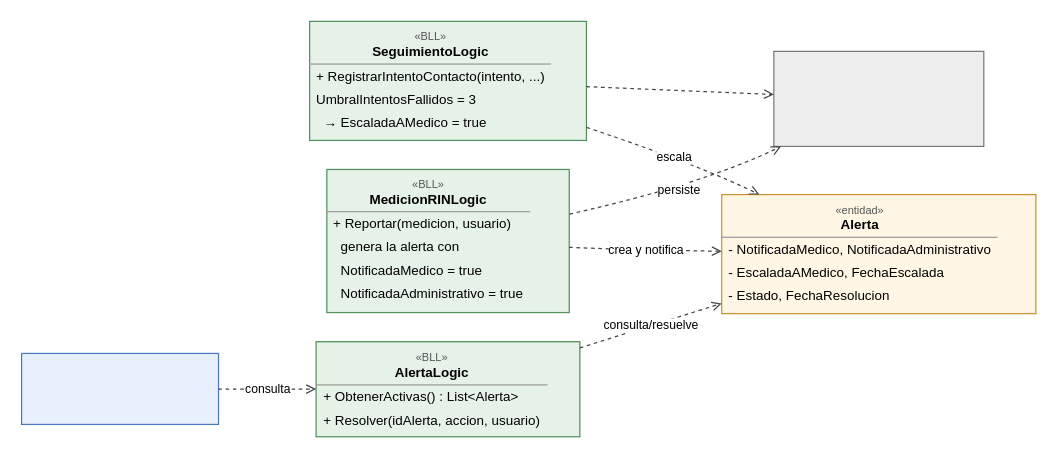
Image size: 1058x464. Some labels were removed from this diagram. The box of each missing label's shape, as (x1, y1, x2, y2) in pixels:
«EF Core» NegocioDbContext + SaveChanges() : int (firma DVH/DVV y audita): (773, 50, 984, 146)
«UserControl» PanelTriajeControl (muestra el aviso urgente): (20, 352, 219, 424)
